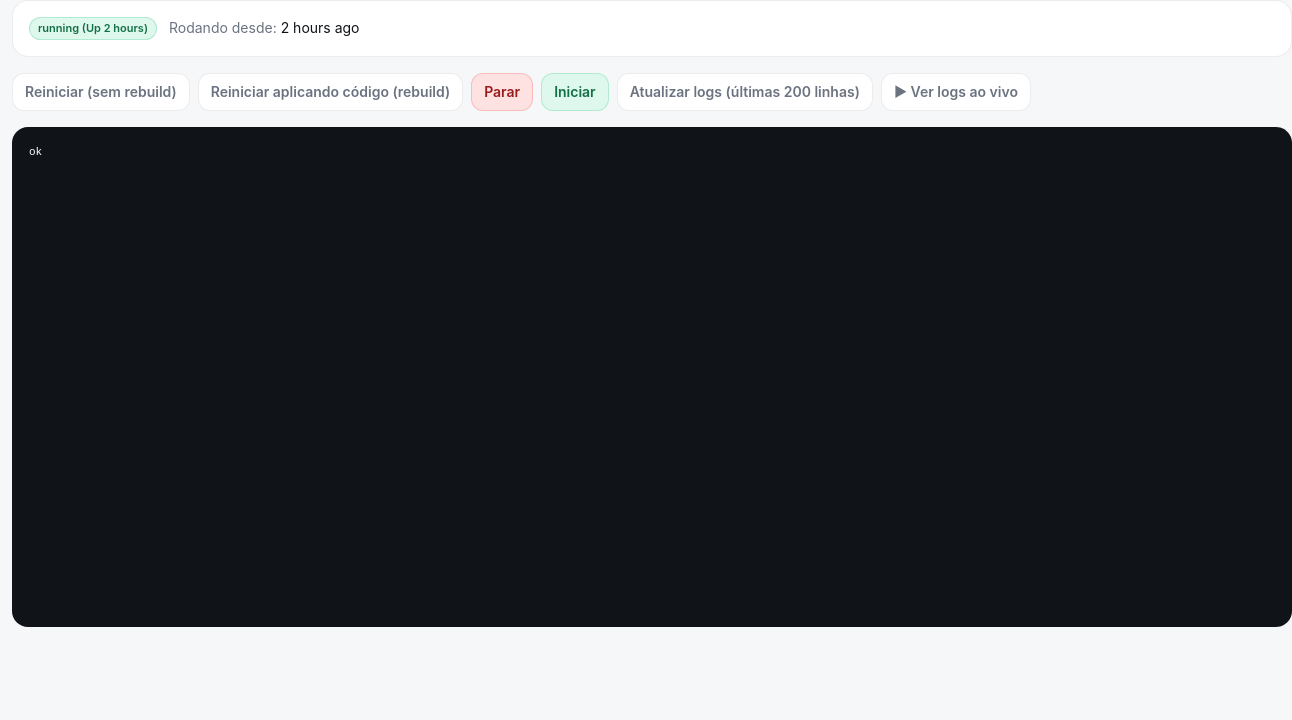
Scenario: BotControlPanel › mostra falha de rede ao reiniciar (não fica mudo)
Expected: the text "running (Up 2 hours)" is shown, [29,17,157,40]
Click the button "Reiniciar (sem rebuild)".
click(101, 92)  # box [12,72,190,110]
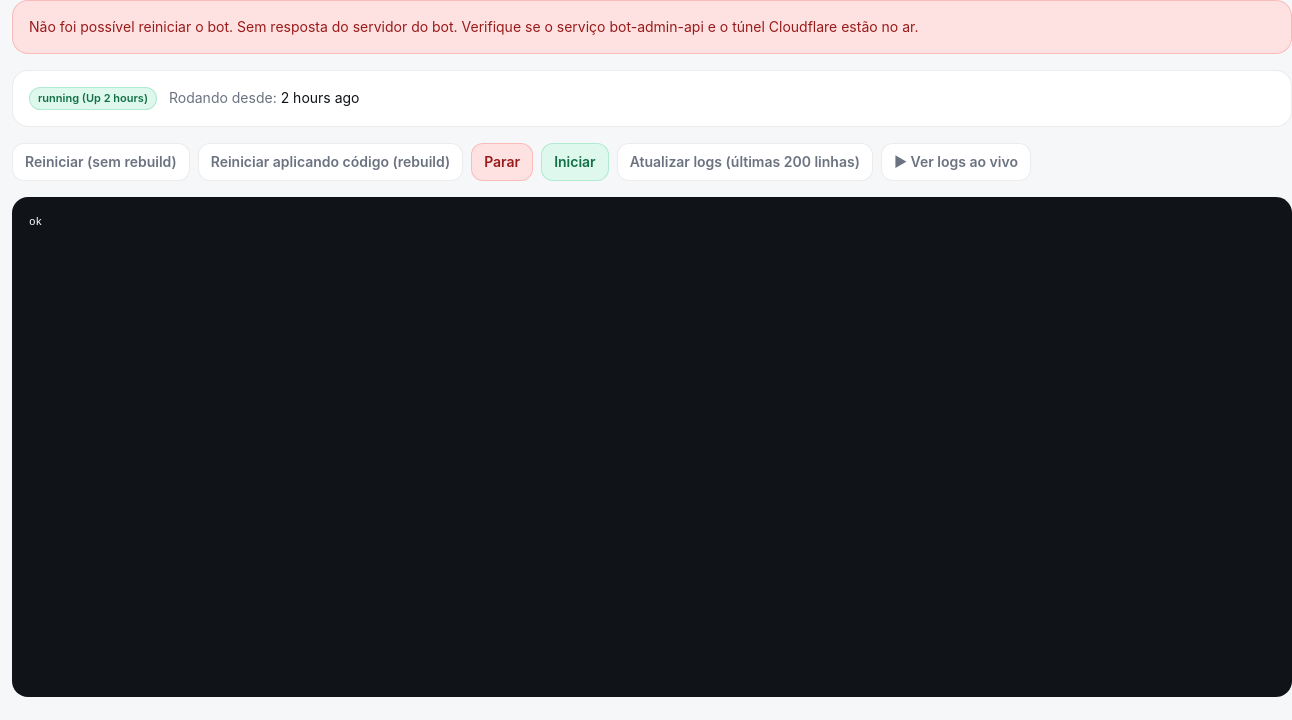
Result: the message shows "Sem resposta do servidor do bot" at [29,18,918,35]
